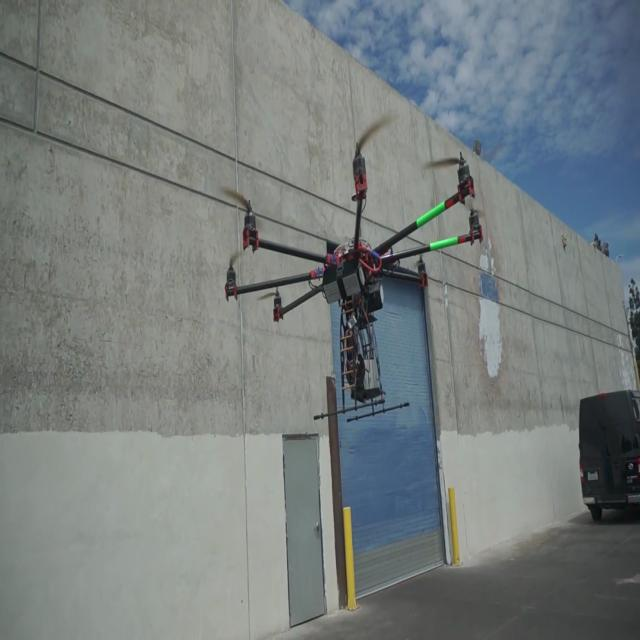drone: (207, 114, 487, 400)
